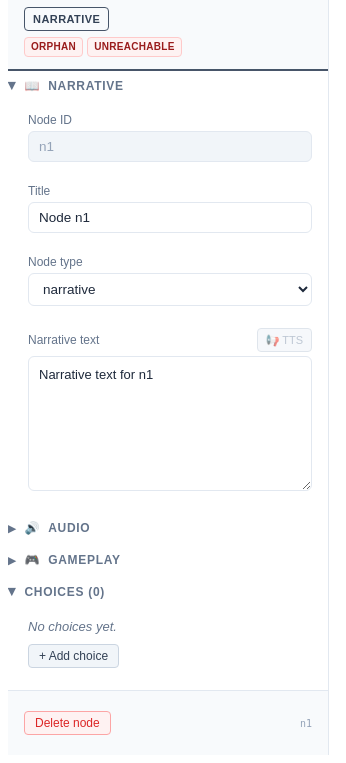
Test: CompanionPanel — delete node › shows confirmation on Delete node click
(page scrolled)
Click the button "Delete node" at (67, 723), box x1=24 y1=711 x2=111 y2=735
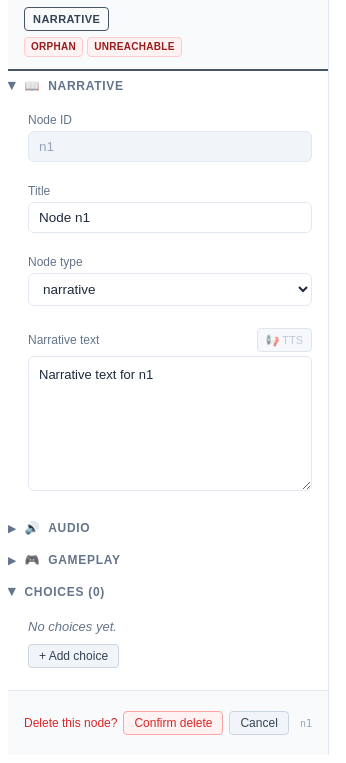
expect the button "Confirm delete" is shown: met, box x1=123 y1=711 x2=223 y2=735
expect the button "Cancel" is shown: met, box x1=230 y1=711 x2=289 y2=735
